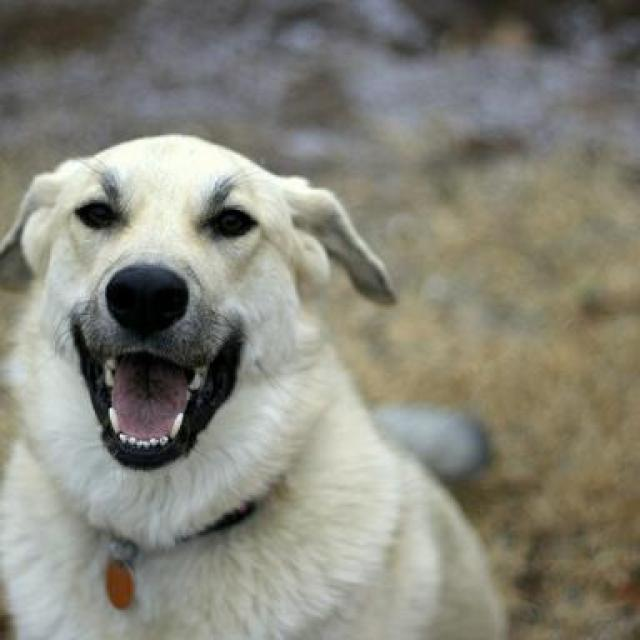adult_dog: (0, 136, 509, 640)
